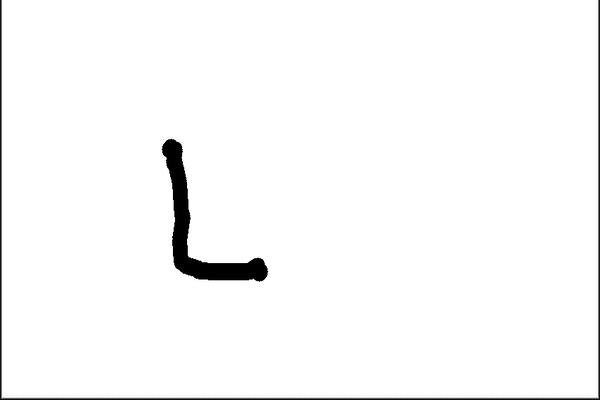L: (155, 133, 277, 290)
